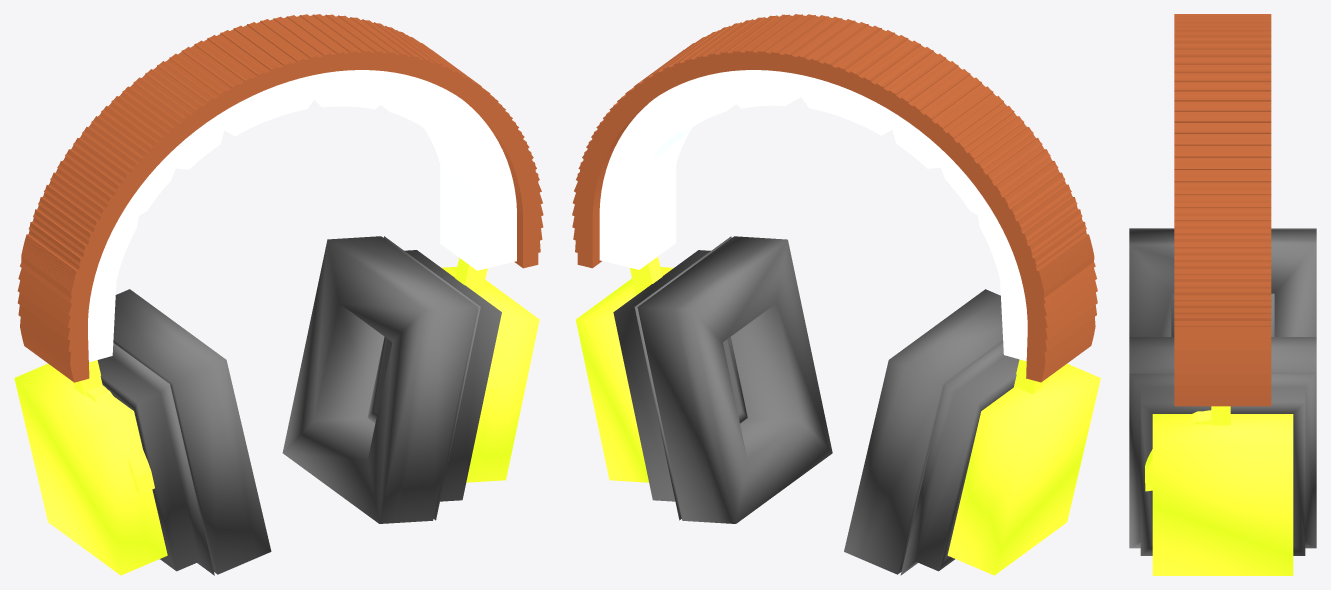
Rendered from crude_audio_listener.gltf.
3 renders of one model, left to right at view 1: azimuth 30°, elevation 25°; view 2: azimuth 150°, elevation 25°; view 3: azimuth 270°, elevation 25°, orthographic. The views are drawn at different scales.
Parts seen in each view (by area): view 1: Cube.005; view 2: Cube.005; view 3: Cube.005.
Part boxes in pixels (x1,y1,x2,y2): Cube.005: [14, 14, 543, 575]; Cube.005: [572, 14, 1100, 575]; Cube.005: [1129, 14, 1316, 575].
Bounding box in the file's own units: 0.9977 × 0.9473 × 0.3515.
